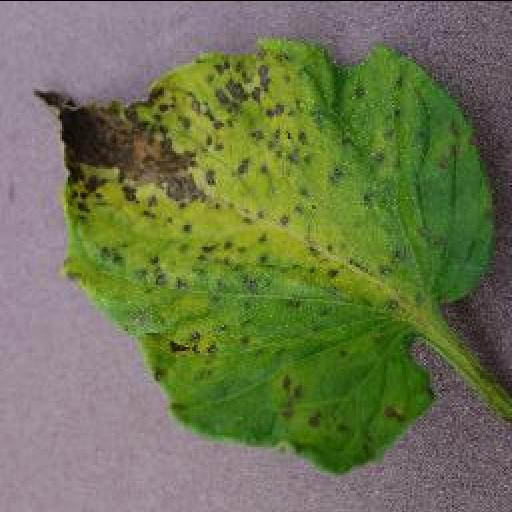disease_tomato: (40, 40, 496, 468)
